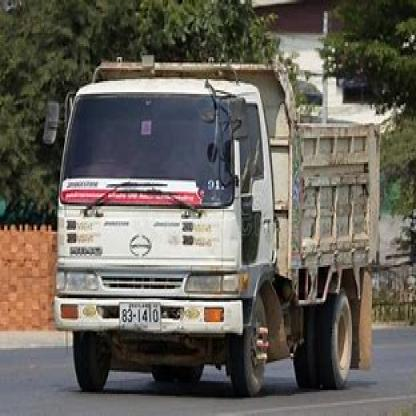dump_truck: (48, 41, 395, 392)
